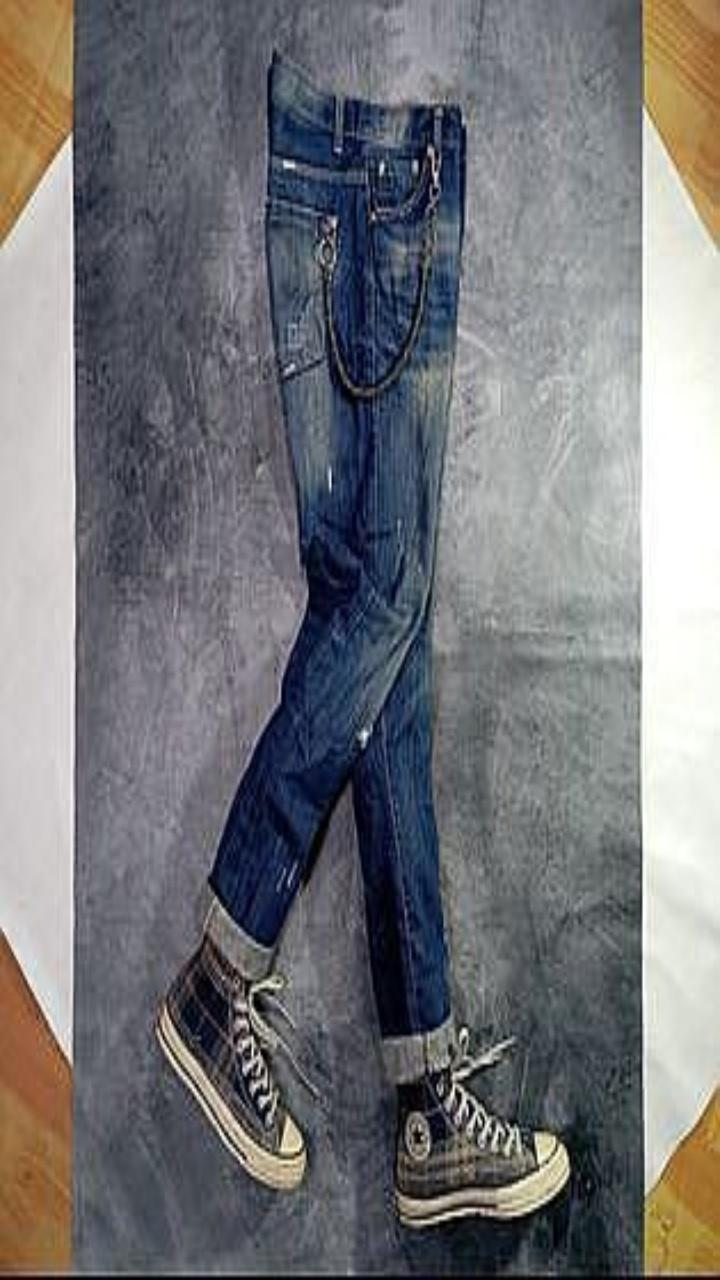Jeans: (206, 53, 464, 1080)
